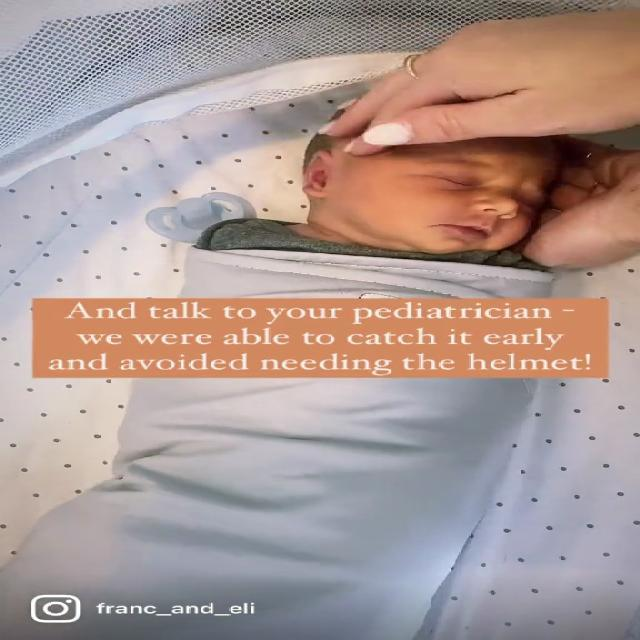baby: (0, 99, 550, 640)
